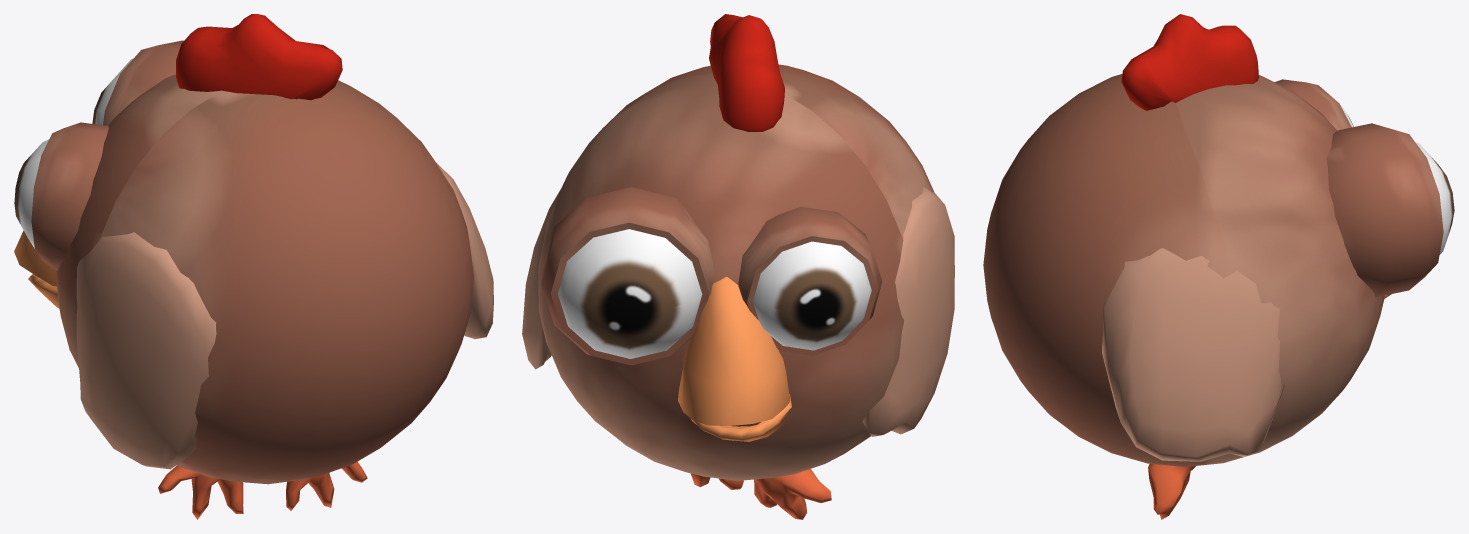
File: chicken_bean.fbx
3 views of the same model, side by side, from view 1: azimuth 30°, elevation 25°; view 2: azimuth 150°, elevation 25°; view 3: azimuth 270°, elevation 25° (orthographic). The views are drawn at different scales.
Parts seen in each view (by area): view 1: Chicken, Cube.003, Sphere.008, Sphere.007, Sphere.006, Cube.002, Cube, Sphere.005, Cube.001; view 2: Chicken, Sphere.006, Sphere.007, Sphere.005, Cube.003, Sphere.008, Cube, Cube.002; view 3: Chicken, Cube.002, Sphere.006, Sphere.008, Cube.001, Sphere.007.
Part boxes in pixels (box(x1,y1,x2,y2)): Chicken: box(56, 74, 473, 484); Cube.003: box(76, 232, 216, 469); Sphere.008: box(176, 14, 342, 100); Sphere.007: box(14, 122, 108, 270); Sphere.006: box(92, 40, 183, 125); Cube.002: box(436, 162, 493, 339); Cube: box(158, 465, 243, 519); Sphere.005: box(14, 230, 59, 308); Cube.001: box(286, 461, 367, 510); Chicken: box(538, 64, 933, 480); Sphere.006: box(541, 187, 713, 365); Sphere.007: box(738, 206, 882, 355); Sphere.005: box(678, 276, 791, 441); Cube.003: box(862, 187, 954, 436); Sphere.008: box(709, 14, 784, 131); Cube: box(754, 469, 831, 519); Cube.002: box(522, 189, 560, 369); Chicken: box(983, 74, 1384, 466); Cube.002: box(1102, 248, 1284, 461); Sphere.006: box(1326, 123, 1454, 297); Sphere.008: box(1121, 14, 1258, 110); Cube.001: box(1148, 464, 1193, 519); Sphere.007: box(1275, 79, 1353, 130).
Size of the model in its own units: 1.07 by 1.3 by 1.16.
